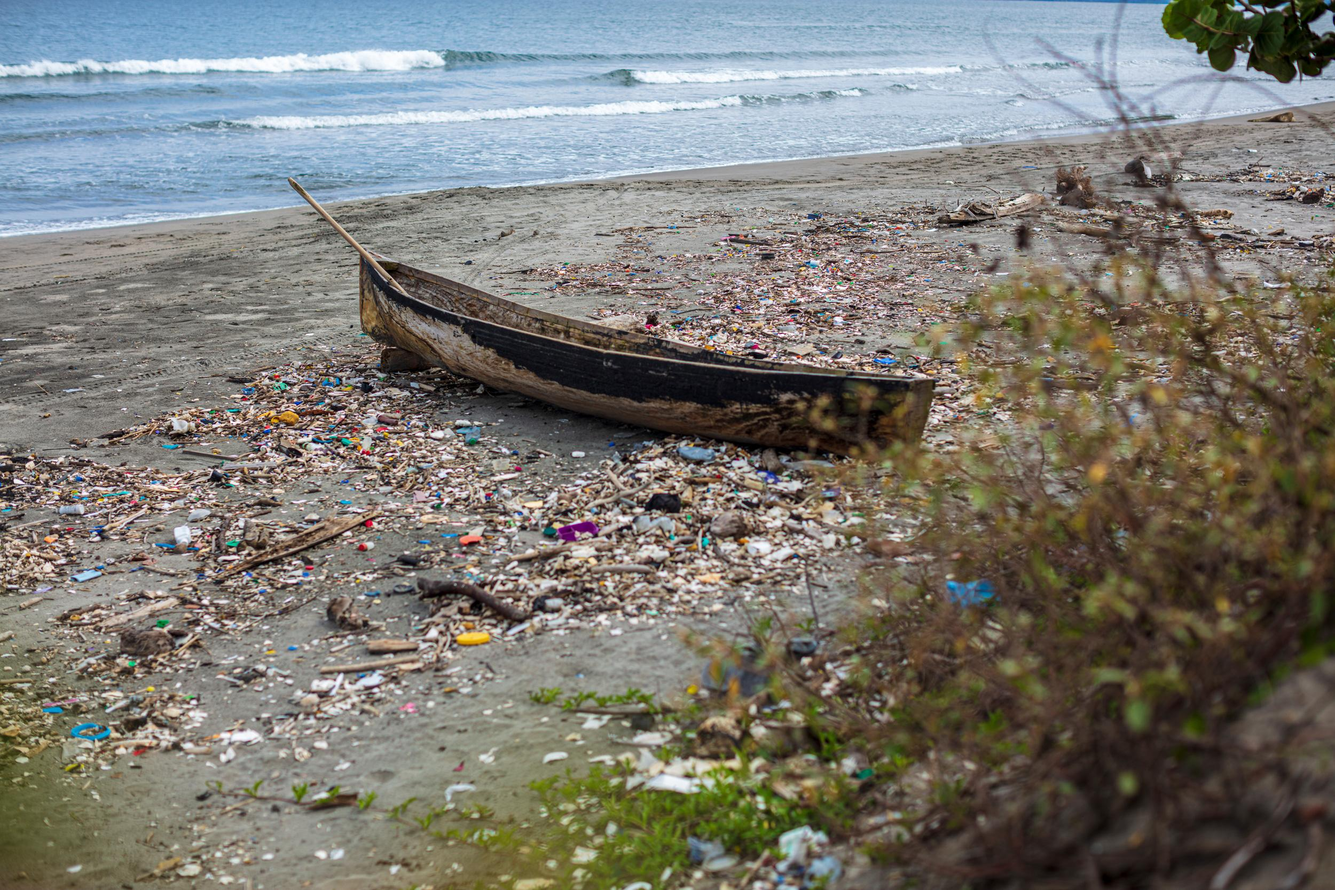garbage: (0, 348, 844, 870), (647, 174, 1155, 337)
